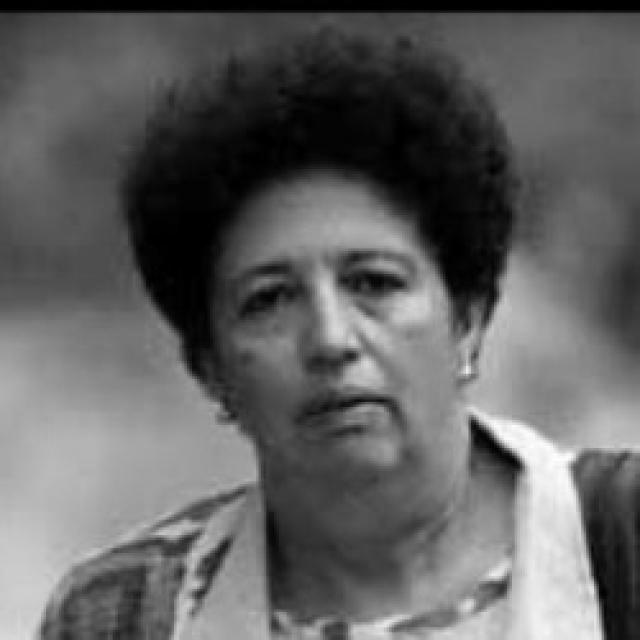real: (102, 81, 508, 508), (223, 256, 409, 319)
